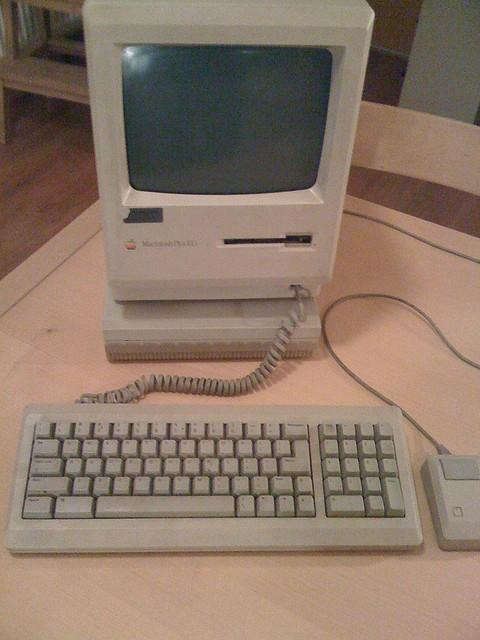apple: (124, 239, 136, 250)
